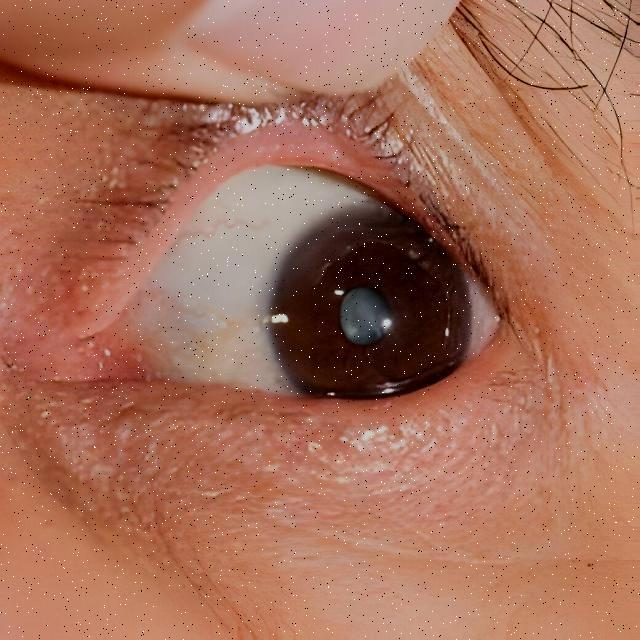Cataract: (272, 233, 463, 394)
